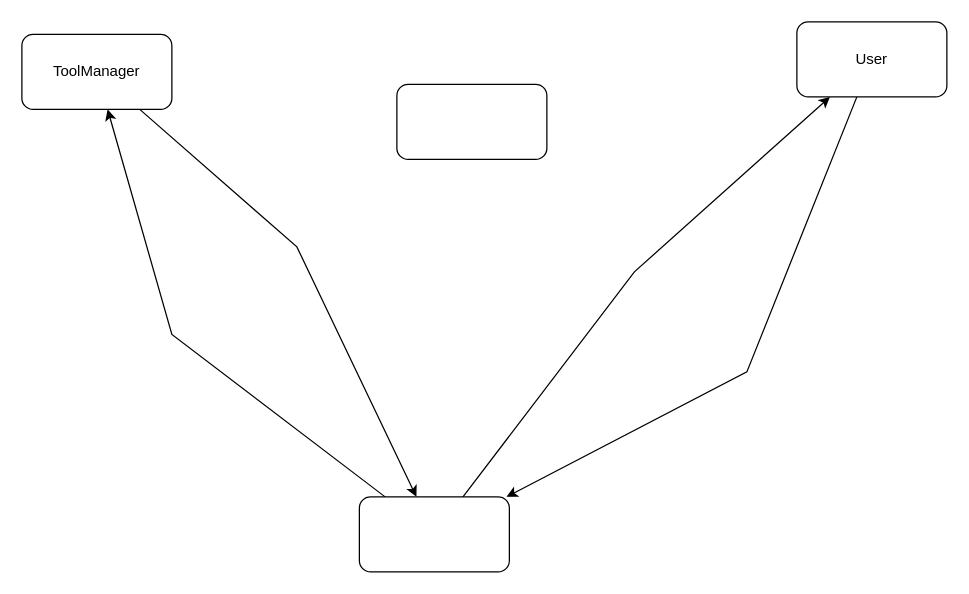
The diagram is 969 pixels wide and 594 high, and some of its shapes have lost their labels. The shapes that lost their labels are listed below. From the top down, each one's box as (x1, y1, x2, y2) in pixels, then its label:
(396, 83, 547, 159): Memory
(358, 496, 509, 572): LLM
